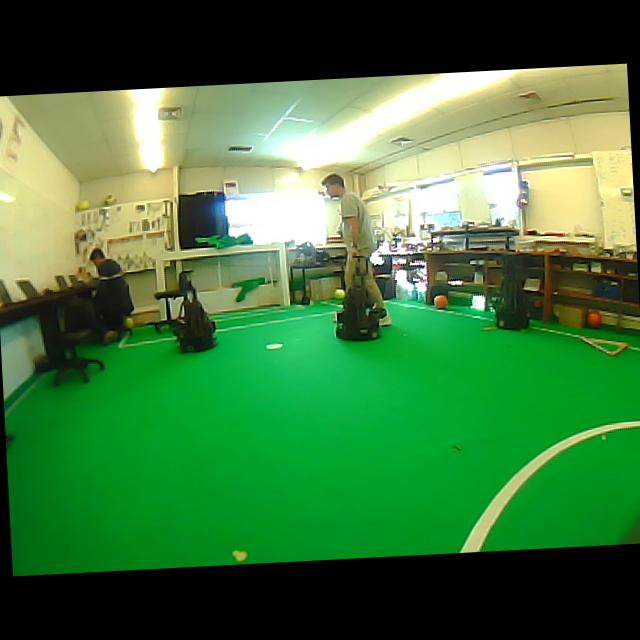ball: (586, 311, 601, 327), (434, 295, 447, 309), (124, 316, 134, 334), (75, 199, 90, 210), (104, 193, 117, 205), (335, 289, 346, 299)
goal: (279, 243, 290, 305)
robot: (336, 257, 380, 340), (172, 271, 216, 352), (496, 275, 529, 329)
